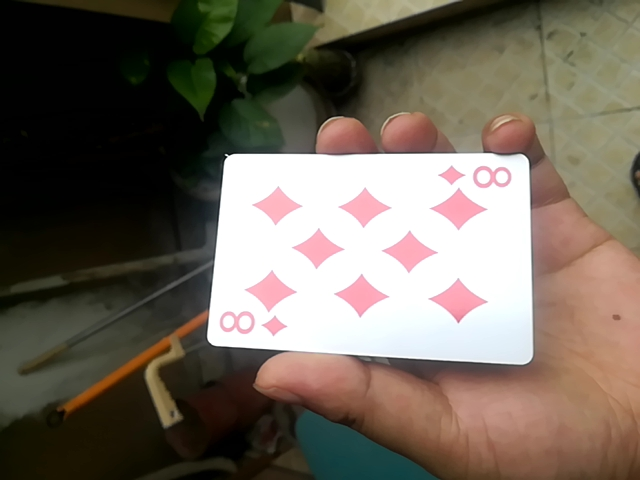fk 8: (201, 151, 534, 364)
